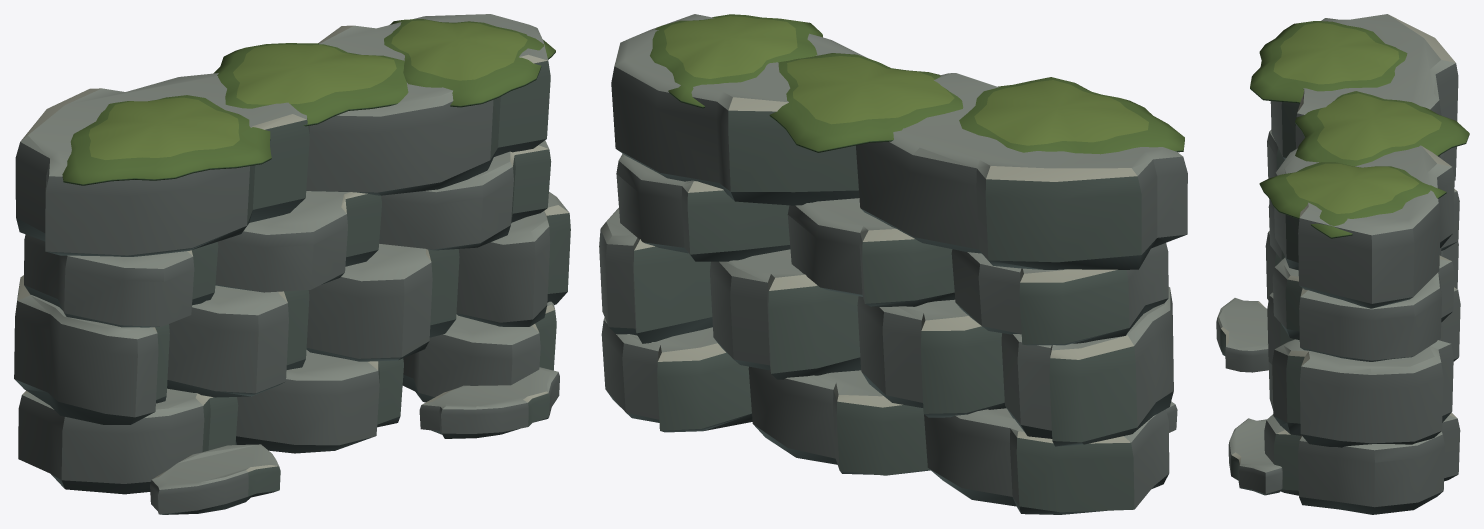
The model's file is fw_cliff_straight.hi.glb.
3 views of the same model, side by side, from view 1: azimuth 30°, elevation 25°; view 2: azimuth 150°, elevation 25°; view 3: azimuth 270°, elevation 25° (orthographic). The views are drawn at different scales.
Parts seen in each view (by area): view 1: body; view 2: body; view 3: body.
Boxes of the visible parts, x1,y1,x2,y2 form: body: [14, 14, 570, 514]; body: [599, 14, 1187, 514]; body: [1216, 14, 1469, 514].
Size of the model in its own units: 3.36 by 2.08 by 1.6.
